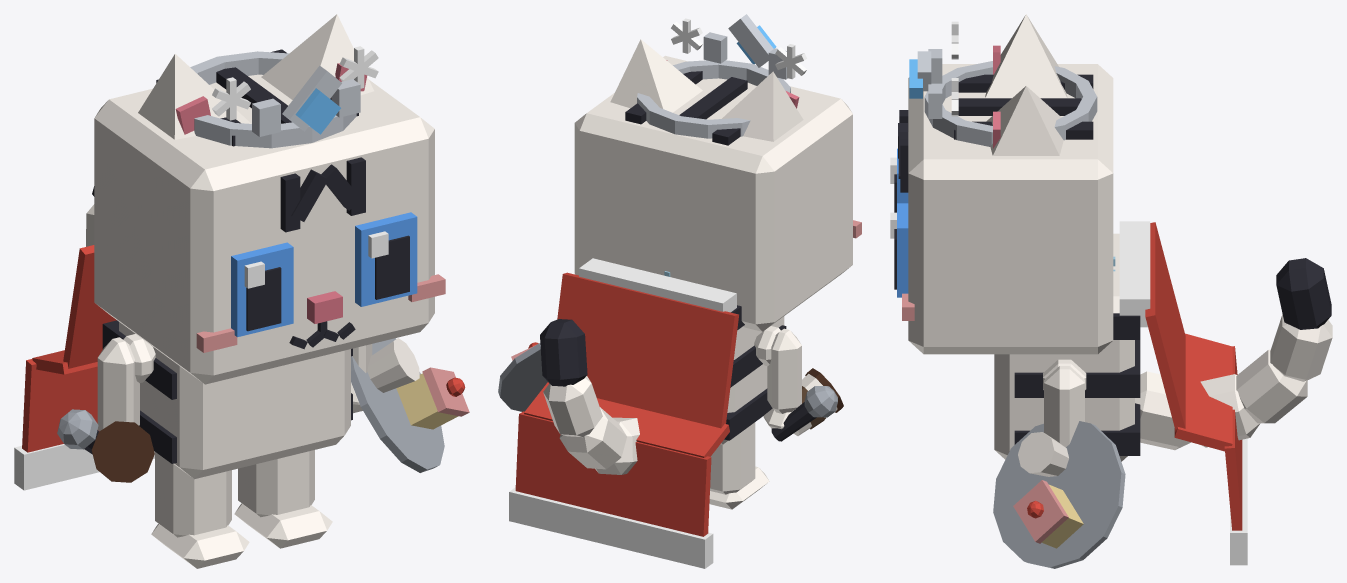
File: CatCafe_Cat_WhiteTiger_Work.fbx
3 renders of one model, left to right at view 1: azimuth 30°, elevation 25°; view 2: azimuth 150°, elevation 25°; view 3: azimuth 270°, elevation 25°, orthographic. The views are drawn at different scales.
Parts seen in each view (by area): view 1: CatCafe_Cat_WhiteTiger_Work_Head, CatCafe_Cat_WhiteTiger_Work_Body, CatCafe_Cat_WhiteTiger_Work_Prop, CatCafe_Cat_WhiteTiger_Work_Held_Waiter, CatCafe_Cat_WhiteTiger_Work_Prop2, CatCafe_Cat_WhiteTiger_Work_LegB2, CatCafe_Cat_WhiteTiger_Work_LegB1, CatCafe_Cat_WhiteTiger_Work_Eye1, CatCafe_Cat_WhiteTiger_Work_Eye2, CatCafe_Cat_WhiteTiger_Work_EarR, CatCafe_Cat_WhiteTiger_Work_EarL, CatCafe_Cat_WhiteTiger_Work_LegF2 (+3 smaller); view 2: CatCafe_Cat_WhiteTiger_Work_Head, CatCafe_Cat_WhiteTiger_Work_Prop, CatCafe_Cat_WhiteTiger_Work_Tail, CatCafe_Cat_WhiteTiger_Work_Prop2, CatCafe_Cat_WhiteTiger_Work_Body, CatCafe_Cat_WhiteTiger_Work_EarL, CatCafe_Cat_WhiteTiger_Work_LegB2, CatCafe_Cat_WhiteTiger_Work_EarR, CatCafe_Cat_WhiteTiger_Work_LegF2, CatCafe_Cat_WhiteTiger_Work_Held_Waiter, CatCafe_Cat_WhiteTiger_Work_Held_Entertainer, CatCafe_Cat_WhiteTiger_Work_Held_Barista; view 3: CatCafe_Cat_WhiteTiger_Work_Head, CatCafe_Cat_WhiteTiger_Work_Prop, CatCafe_Cat_WhiteTiger_Work_Held_Waiter, CatCafe_Cat_WhiteTiger_Work_Tail, CatCafe_Cat_WhiteTiger_Work_Body, CatCafe_Cat_WhiteTiger_Work_Prop2, CatCafe_Cat_WhiteTiger_Work_EarR, CatCafe_Cat_WhiteTiger_Work_EarL, CatCafe_Cat_WhiteTiger_Work_LegF1, CatCafe_Cat_WhiteTiger_Work_Eye1.
Part boxes in pixels (<box>): CatCafe_Cat_WhiteTiger_Work_Head: <box>94,49,445,384</box>; CatCafe_Cat_WhiteTiger_Work_Body: <box>102,320,352,479</box>; CatCafe_Cat_WhiteTiger_Work_Prop: <box>14,245,154,490</box>; CatCafe_Cat_WhiteTiger_Work_Held_Waiter: <box>351,338,469,472</box>; CatCafe_Cat_WhiteTiger_Work_Prop2: <box>190,46,378,148</box>; CatCafe_Cat_WhiteTiger_Work_LegB2: <box>151,452,249,568</box>; CatCafe_Cat_WhiteTiger_Work_LegB1: <box>234,450,332,548</box>; CatCafe_Cat_WhiteTiger_Work_Eye1: <box>355,212,417,306</box>; CatCafe_Cat_WhiteTiger_Work_Eye2: <box>231,242,293,337</box>; CatCafe_Cat_WhiteTiger_Work_EarR: <box>138,54,250,139</box>; CatCafe_Cat_WhiteTiger_Work_EarL: <box>261,14,373,99</box>; CatCafe_Cat_WhiteTiger_Work_LegF2: <box>97,337,139,430</box>; CatCafe_Cat_WhiteTiger_Work_Head: <box>574,55,861,331</box>; CatCafe_Cat_WhiteTiger_Work_Prop: <box>509,258,738,568</box>; CatCafe_Cat_WhiteTiger_Work_Tail: <box>540,319,639,474</box>; CatCafe_Cat_WhiteTiger_Work_Prop2: <box>637,14,806,138</box>; CatCafe_Cat_WhiteTiger_Work_Body: <box>720,305,786,444</box>; CatCafe_Cat_WhiteTiger_Work_EarL: <box>610,39,702,112</box>; CatCafe_Cat_WhiteTiger_Work_LegB2: <box>709,422,769,509</box>; CatCafe_Cat_WhiteTiger_Work_EarR: <box>722,71,803,141</box>; CatCafe_Cat_WhiteTiger_Work_LegF2: <box>763,328,801,429</box>; CatCafe_Cat_WhiteTiger_Work_Held_Waiter: <box>498,342,547,411</box>; CatCafe_Cat_WhiteTiger_Work_Held_Entertainer: <box>771,386,837,441</box>; CatCafe_Cat_WhiteTiger_Work_Held_Barista: <box>793,368,843,435</box>; CatCafe_Cat_WhiteTiger_Work_Head: <box>898,64,1113,354</box>; CatCafe_Cat_WhiteTiger_Work_Prop: <box>1113,221,1247,565</box>; CatCafe_Cat_WhiteTiger_Work_Held_Waiter: <box>993,421,1125,568</box>; CatCafe_Cat_WhiteTiger_Work_Tail: <box>1135,258,1332,450</box>; CatCafe_Cat_WhiteTiger_Work_Body: <box>994,233,1140,461</box>; CatCafe_Cat_WhiteTiger_Work_Prop2: <box>917,21,1097,146</box>; CatCafe_Cat_WhiteTiger_Work_EarR: <box>985,14,1067,97</box>; CatCafe_Cat_WhiteTiger_Work_EarL: <box>986,86,1063,155</box>; CatCafe_Cat_WhiteTiger_Work_LegF1: <box>1044,366,1084,447</box>; CatCafe_Cat_WhiteTiger_Work_Eye1: <box>890,203,908,297</box>.
Bounding box in the file's own units: 1.84 × 2.33 × 1.97.
Materials: 1 (1 with a texture image).
